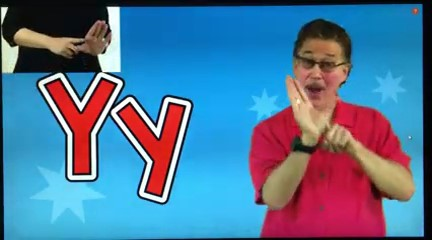Y: (279, 70, 358, 160)
